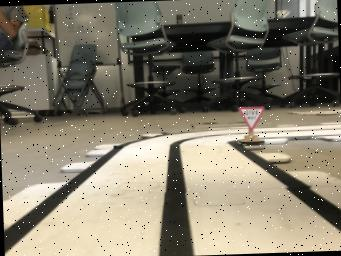give_way: (238, 106, 264, 144)
street: (4, 128, 341, 256)
